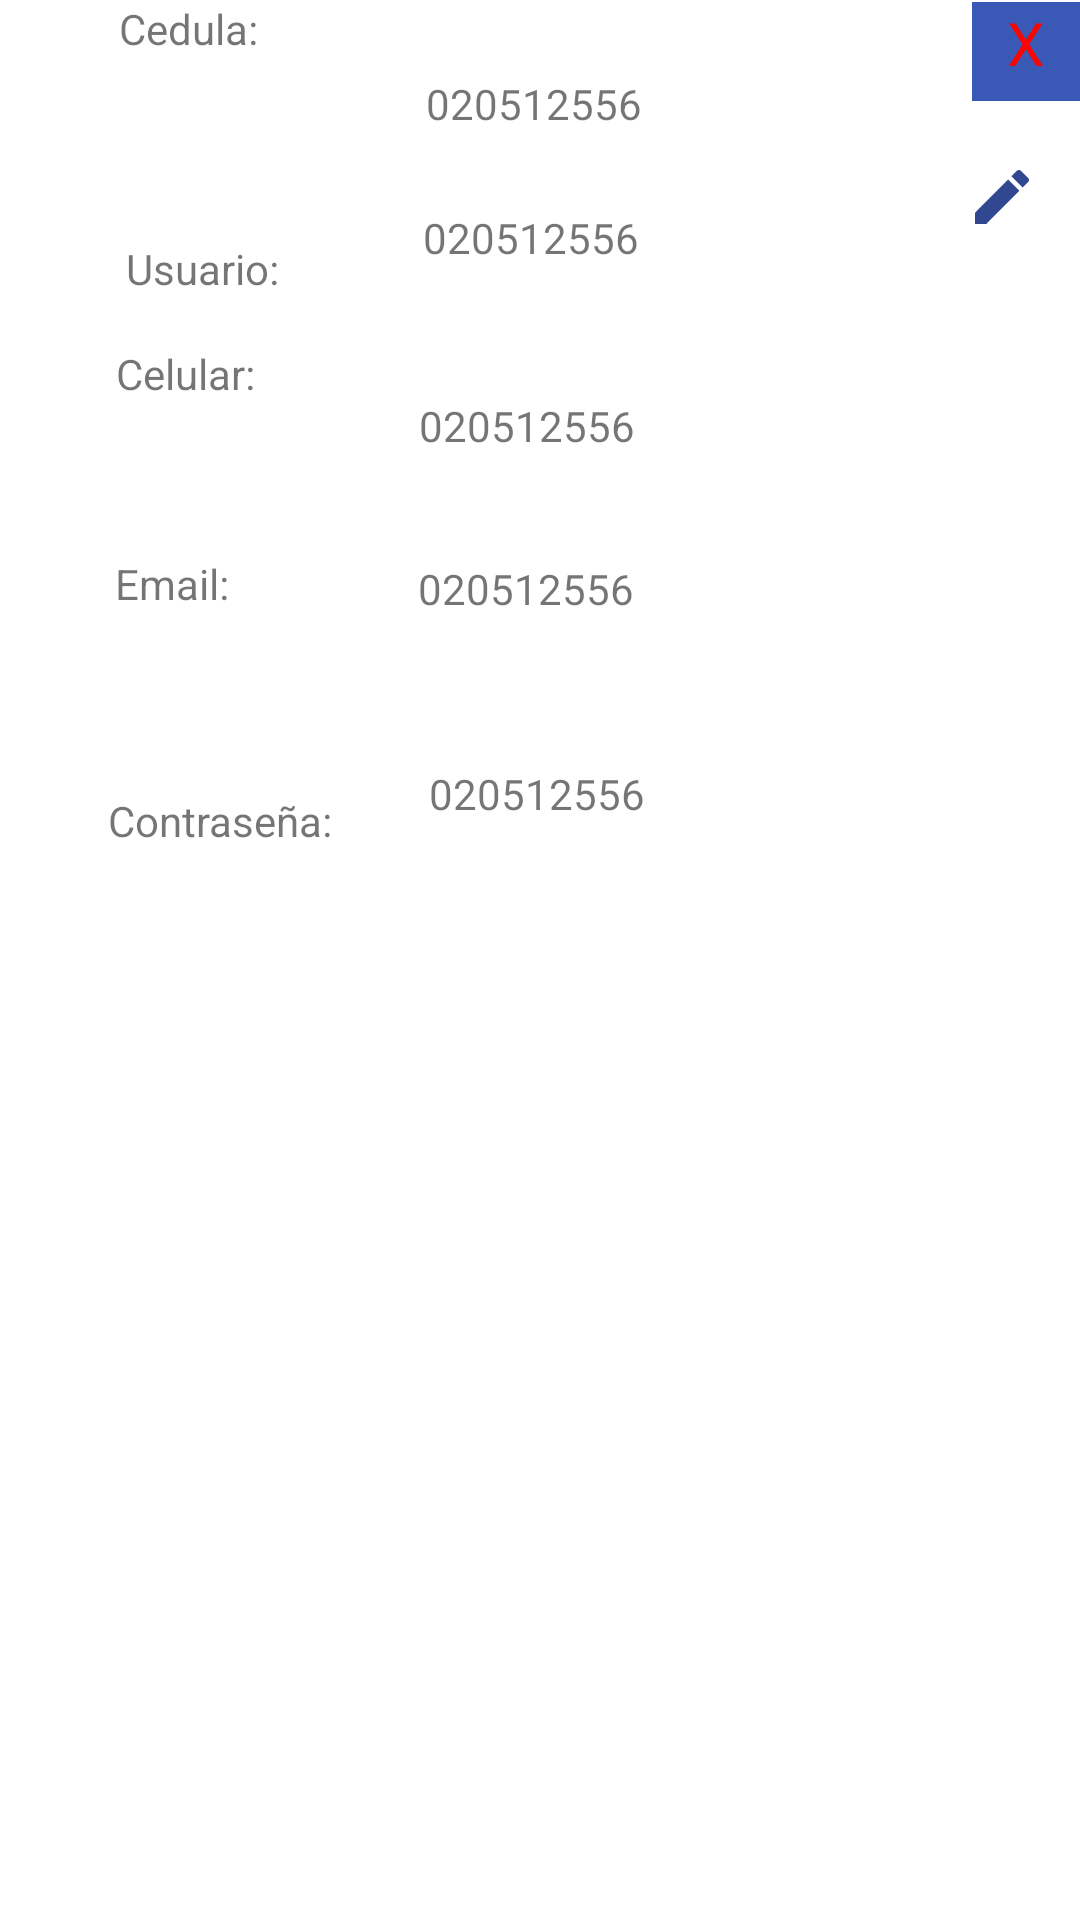

Where icons sit on this 1080 × 1920 app screen, as {"left": x1, "top": y1, "right": x2, "bottom": y2}:
editar: {"left": 975, "top": 170, "right": 1029, "bottom": 224}
